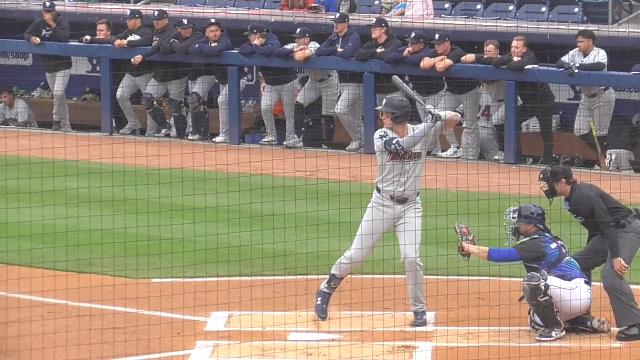baseball bat: (393, 76, 427, 108)
